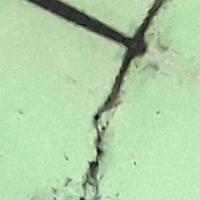crack: (23, 0, 173, 171)
